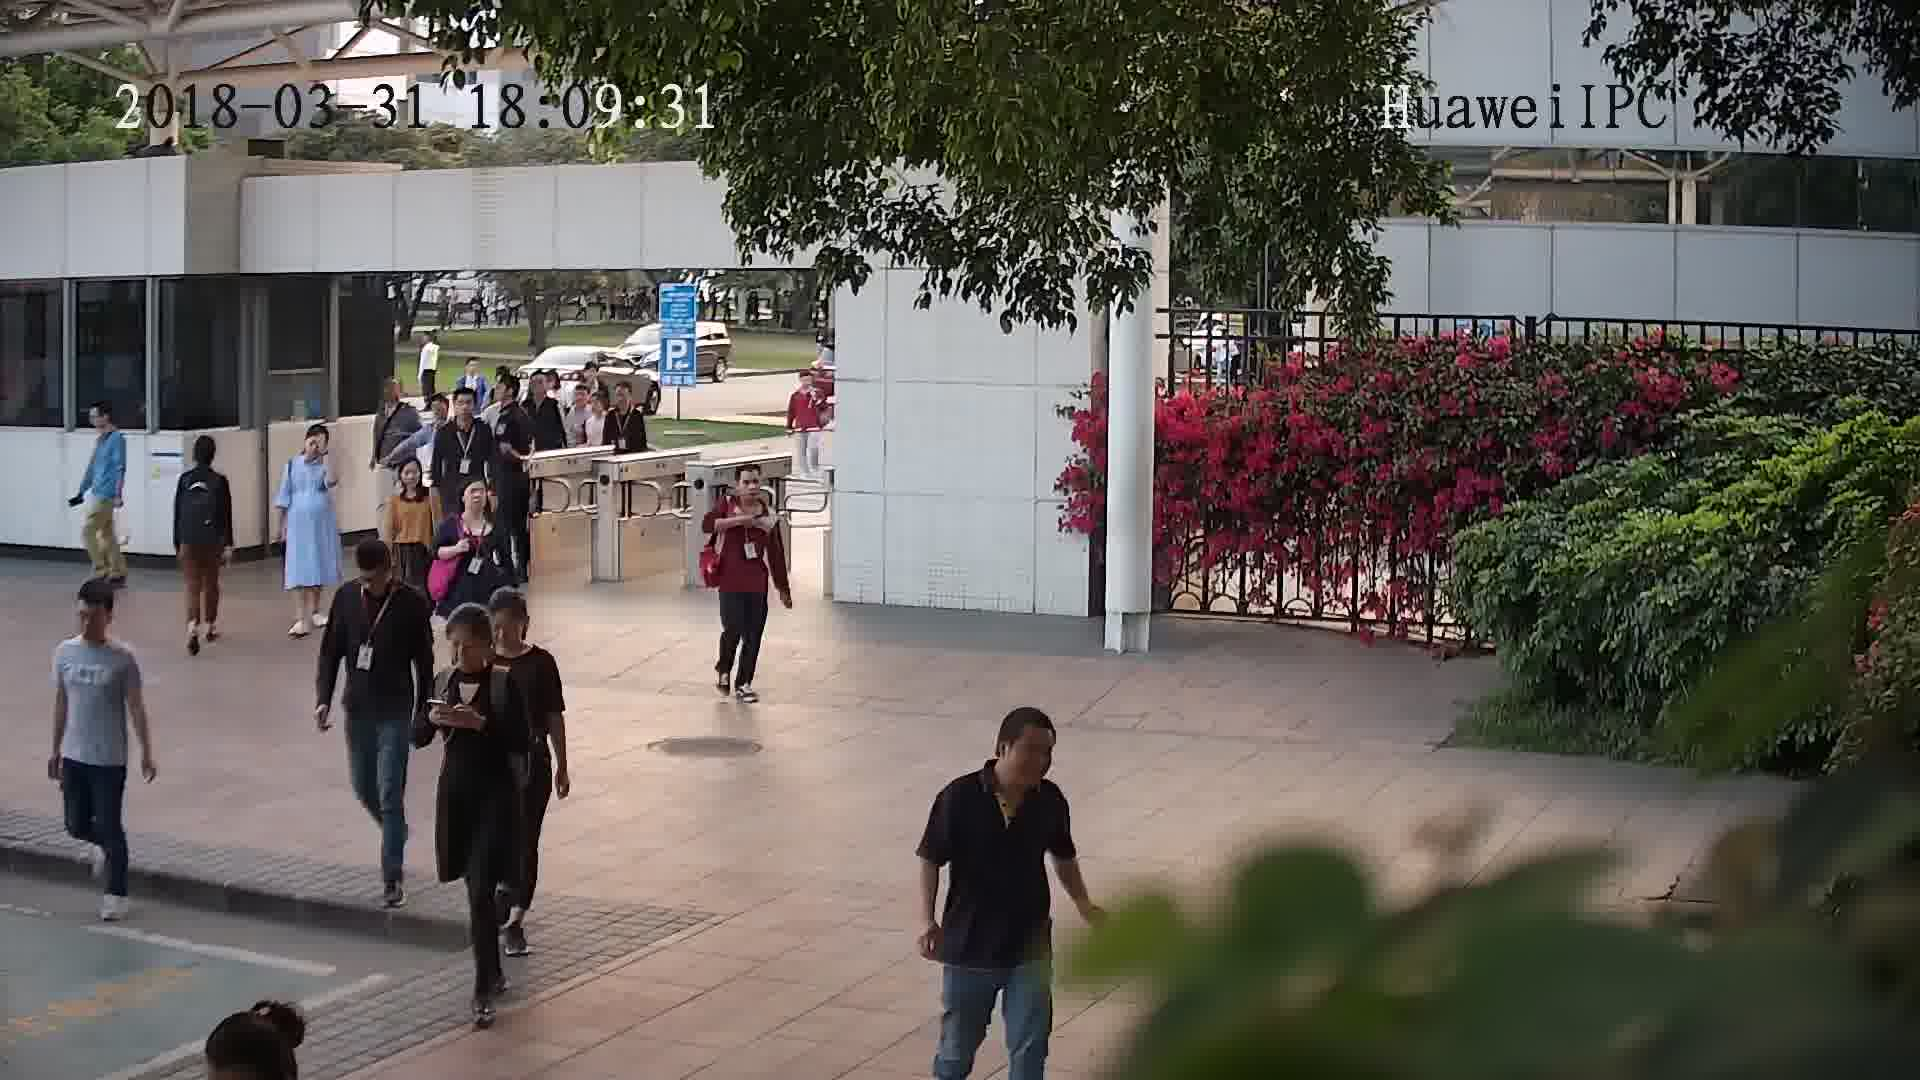face: (1001, 725, 1061, 785), (442, 625, 492, 675)
person: (928, 707, 1067, 828), (52, 578, 141, 678), (335, 531, 427, 618), (438, 604, 511, 705), (491, 587, 559, 683), (708, 460, 785, 527), (176, 431, 233, 491), (448, 476, 501, 540), (386, 452, 441, 511), (289, 418, 341, 478), (86, 394, 131, 457), (444, 384, 492, 440), (377, 372, 424, 426), (490, 369, 533, 429), (609, 376, 650, 428), (519, 367, 560, 414), (413, 395, 459, 436), (458, 355, 494, 389), (560, 383, 593, 421)
